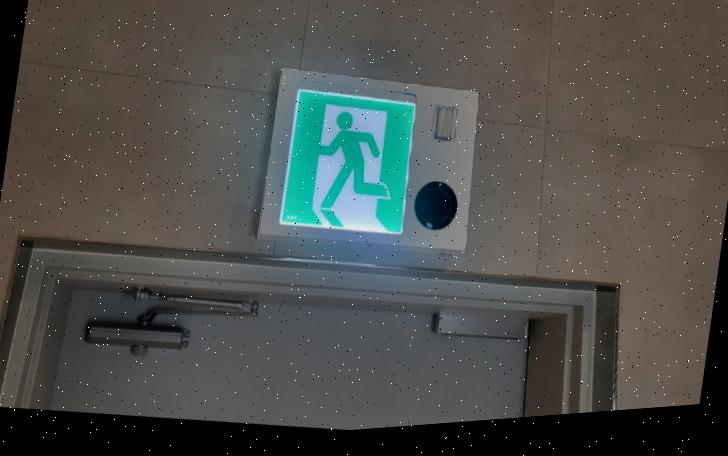emergency_exit: (256, 66, 479, 256)
